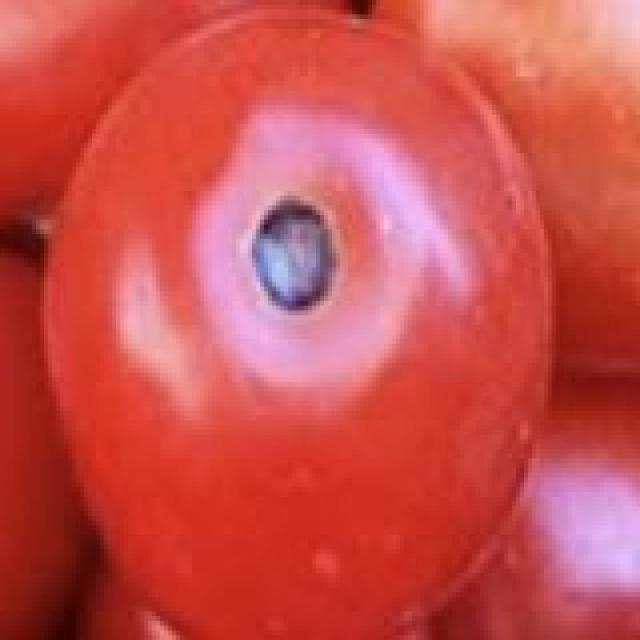Blossom End Rot Fruit: (161, 124, 225, 207)
